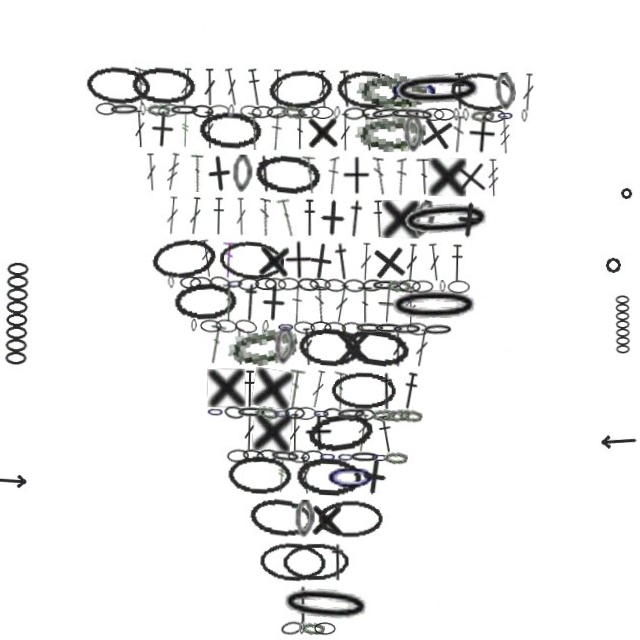chain: (396, 195, 493, 241), (282, 583, 379, 627), (386, 67, 482, 110), (386, 284, 482, 324), (225, 322, 301, 372), (307, 409, 377, 456), (148, 237, 217, 284), (342, 324, 411, 370), (251, 496, 319, 541), (263, 67, 331, 111), (445, 67, 513, 111), (251, 153, 319, 196), (352, 111, 423, 152), (217, 240, 284, 282), (81, 68, 147, 110), (263, 542, 331, 582), (127, 68, 193, 109), (332, 68, 398, 109), (286, 542, 353, 582), (298, 326, 363, 367), (173, 283, 238, 324), (353, 70, 423, 108), (298, 456, 364, 496), (195, 112, 260, 152), (321, 499, 387, 538), (230, 456, 295, 495), (332, 371, 398, 409), (384, 69, 437, 108), (327, 457, 380, 495), (408, 197, 436, 238), (490, 69, 513, 108), (274, 327, 296, 366), (400, 113, 421, 151), (298, 500, 318, 538), (230, 156, 250, 194), (366, 104, 399, 121), (271, 449, 304, 465), (399, 105, 432, 121), (337, 406, 369, 421), (391, 321, 423, 335), (422, 321, 454, 335), (105, 106, 137, 120), (208, 276, 232, 294), (351, 450, 383, 463), (237, 407, 269, 420), (354, 321, 386, 334), (373, 321, 405, 334), (370, 278, 402, 291), (165, 106, 197, 119), (386, 106, 418, 119), (285, 620, 309, 637), (234, 319, 258, 336), (387, 406, 412, 422), (256, 406, 281, 421), (277, 105, 302, 120), (244, 449, 267, 465), (154, 105, 177, 121), (236, 105, 259, 121), (225, 406, 247, 422), (258, 449, 281, 464), (303, 449, 326, 464), (215, 320, 238, 335), (406, 320, 429, 335), (296, 277, 319, 292), (308, 277, 331, 292), (294, 105, 317, 120), (373, 407, 397, 421), (400, 407, 424, 421), (467, 106, 491, 120), (361, 277, 383, 292), (293, 321, 316, 335), (341, 321, 364, 335), (323, 278, 346, 292), (480, 106, 503, 120), (306, 622, 330, 635), (386, 450, 410, 463), (386, 278, 410, 291), (143, 106, 167, 119), (229, 450, 251, 464), (290, 450, 312, 464), (324, 407, 346, 421), (200, 321, 222, 335), (324, 321, 346, 335), (189, 278, 211, 292), (237, 278, 259, 292), (264, 278, 286, 292), (343, 278, 365, 292), (411, 278, 433, 292), (188, 106, 210, 120), (204, 106, 226, 120), (248, 106, 270, 120), (263, 106, 285, 120), (340, 106, 362, 120), (356, 407, 377, 421), (319, 622, 341, 635), (296, 407, 318, 420), (310, 321, 332, 334), (179, 278, 201, 291), (254, 278, 276, 291), (277, 278, 299, 291), (398, 278, 420, 291), (447, 278, 469, 291), (92, 106, 114, 119), (308, 106, 330, 119), (419, 106, 441, 119), (430, 106, 452, 119), (286, 407, 307, 420), (358, 106, 379, 119), (225, 278, 244, 292), (275, 407, 293, 421), (321, 450, 339, 463), (339, 450, 357, 463), (373, 450, 391, 463), (208, 407, 226, 420), (314, 407, 332, 420), (277, 321, 295, 334), (493, 106, 511, 119), (262, 321, 269, 334), (167, 278, 174, 291), (136, 106, 143, 119), (224, 106, 231, 119), (330, 106, 337, 119), (459, 106, 466, 119), (304, 622, 310, 635), (191, 321, 197, 334), (439, 278, 445, 291), (450, 106, 456, 119), (518, 106, 524, 119)
double: (274, 198, 295, 238), (286, 370, 307, 409), (206, 327, 227, 366), (218, 69, 238, 108), (332, 284, 351, 323), (310, 370, 328, 409), (413, 327, 431, 366), (413, 156, 431, 194), (425, 241, 442, 280), (299, 155, 316, 194), (356, 112, 373, 151), (300, 456, 316, 495), (300, 328, 316, 366), (357, 285, 373, 323), (289, 113, 305, 151), (334, 371, 349, 409), (220, 285, 235, 323), (403, 242, 418, 280), (163, 199, 178, 237), (186, 199, 201, 237), (129, 113, 144, 151), (448, 113, 463, 151), (175, 70, 190, 108), (312, 70, 327, 108), (358, 242, 372, 280), (142, 156, 156, 194), (187, 156, 201, 194), (370, 156, 384, 194), (199, 113, 213, 151), (244, 113, 258, 151), (199, 70, 213, 108), (290, 414, 303, 452), (392, 328, 405, 366), (221, 242, 234, 280), (233, 199, 246, 237), (267, 70, 280, 108), (518, 70, 531, 108), (245, 414, 257, 452), (257, 199, 269, 237), (325, 156, 337, 194), (336, 113, 348, 151), (314, 285, 325, 323), (268, 113, 279, 151), (131, 70, 142, 108), (235, 328, 245, 366), (292, 285, 302, 323), (394, 156, 404, 194)
enseble_chain: (4, 267, 29, 372), (614, 290, 631, 350)
half_double: (341, 198, 367, 238), (329, 241, 354, 281), (238, 284, 263, 323), (251, 155, 275, 194), (377, 413, 398, 453), (297, 586, 319, 624), (331, 543, 353, 581), (377, 371, 399, 409), (401, 370, 421, 409), (241, 69, 261, 108), (333, 69, 351, 108), (369, 199, 385, 237), (448, 70, 463, 108), (244, 371, 258, 409), (449, 242, 463, 280), (210, 199, 224, 237), (301, 199, 315, 237)
noise: (600, 428, 639, 445), (0, 478, 31, 493), (603, 251, 621, 269), (617, 181, 631, 195)
single: (252, 368, 295, 411), (412, 110, 455, 153), (356, 455, 398, 497), (299, 240, 341, 282), (367, 240, 409, 282), (196, 154, 238, 196), (447, 154, 489, 196), (447, 197, 488, 238), (254, 413, 294, 453), (208, 370, 247, 409), (334, 327, 373, 366), (254, 284, 293, 323), (311, 198, 350, 237), (140, 112, 179, 151), (255, 241, 292, 281), (380, 199, 418, 237), (426, 156, 464, 194), (302, 112, 338, 151), (313, 500, 348, 538), (463, 112, 494, 151), (305, 413, 335, 452), (282, 241, 312, 280), (339, 156, 368, 194), (377, 284, 399, 323)
treble: (197, 241, 215, 280), (162, 155, 179, 194), (357, 413, 373, 452), (277, 457, 292, 495), (484, 156, 498, 194), (495, 113, 509, 151), (404, 285, 417, 323), (176, 113, 189, 151)
